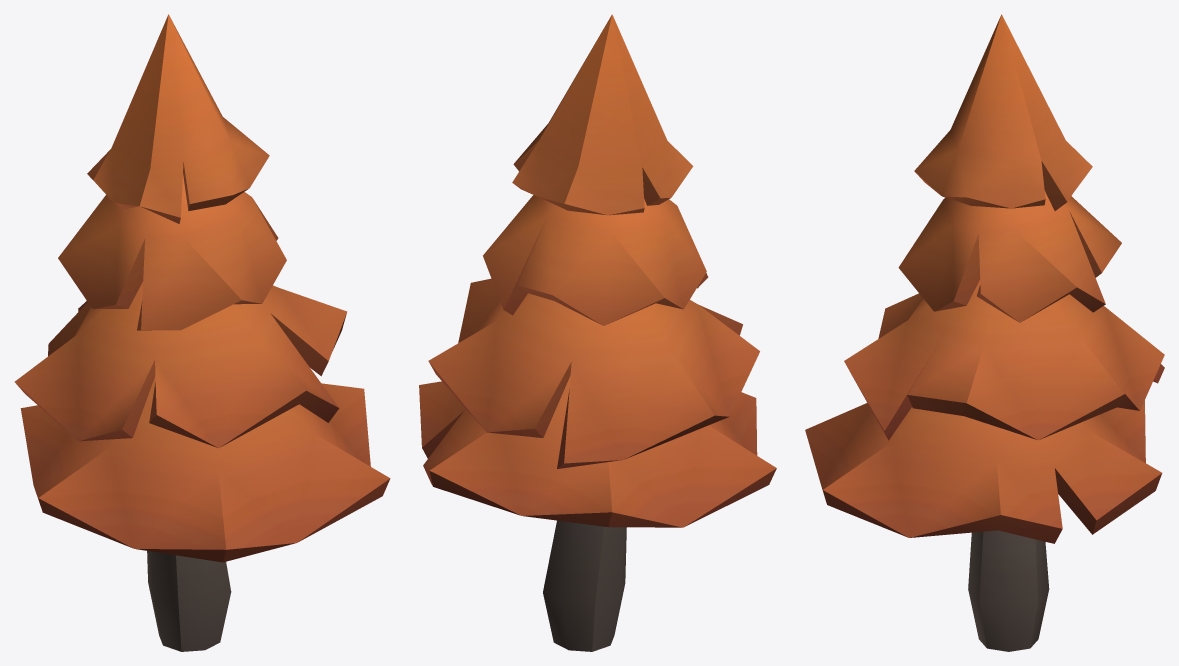
Rendered from tree_pine_orange_medium.glb.
3 views of the same model, side by side, from view 1: azimuth 30°, elevation 25°; view 2: azimuth 150°, elevation 25°; view 3: azimuth 270°, elevation 25° (orthographic). The views are drawn at different scales.
Visible parts, largest first — view 1: tree_pine_orange_medium; view 2: tree_pine_orange_medium; view 3: tree_pine_orange_medium.
Boxes of the visible parts, x1,y1,x2,y2 form: tree_pine_orange_medium: (14,14,390,651); tree_pine_orange_medium: (419,14,776,651); tree_pine_orange_medium: (805,14,1164,651).
Size of the model in its own units: 3.33 by 5.87 by 3.12.
Materials: 1 (1 with a texture image).
